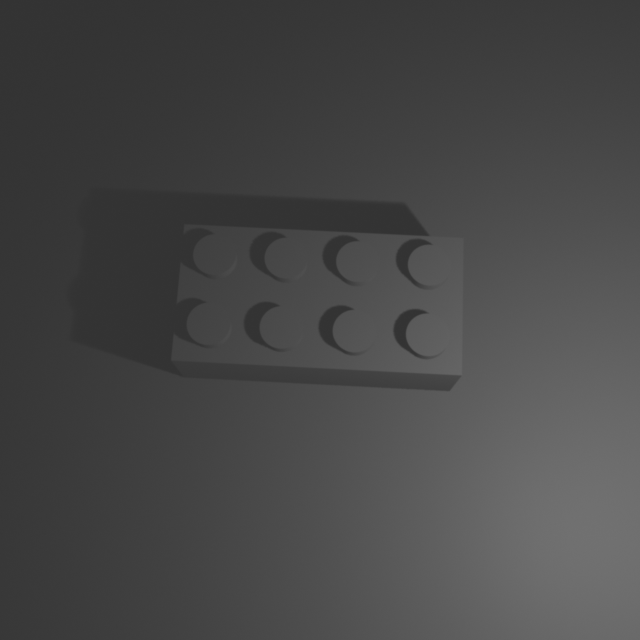lego_2x4: (169, 219, 466, 391)
